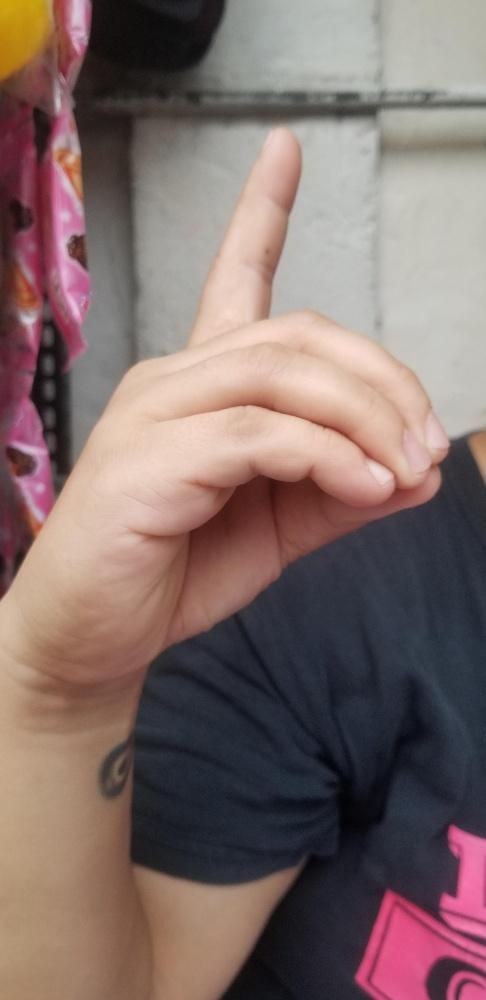d: (43, 128, 449, 669)
